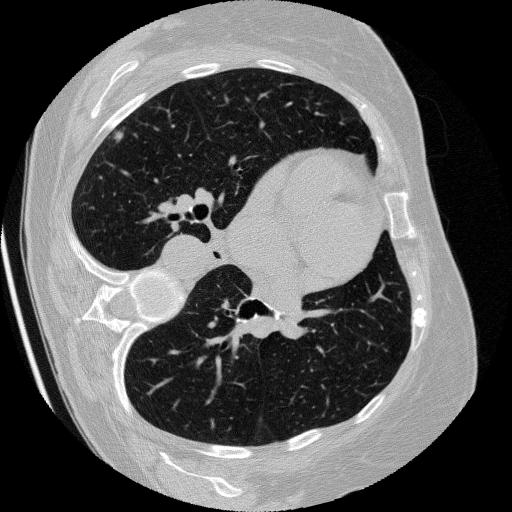nodule: (109, 128, 130, 149)
